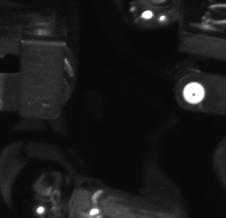fiber: (180, 78, 207, 110)
